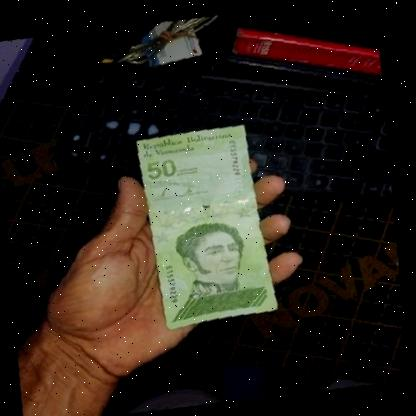fifty-front-vef: (129, 117, 285, 331)
